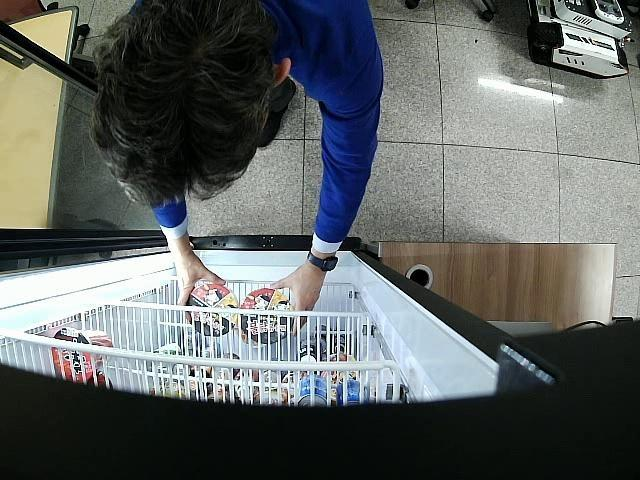07_buldak_L: (240, 288, 294, 342), (189, 284, 238, 337)
